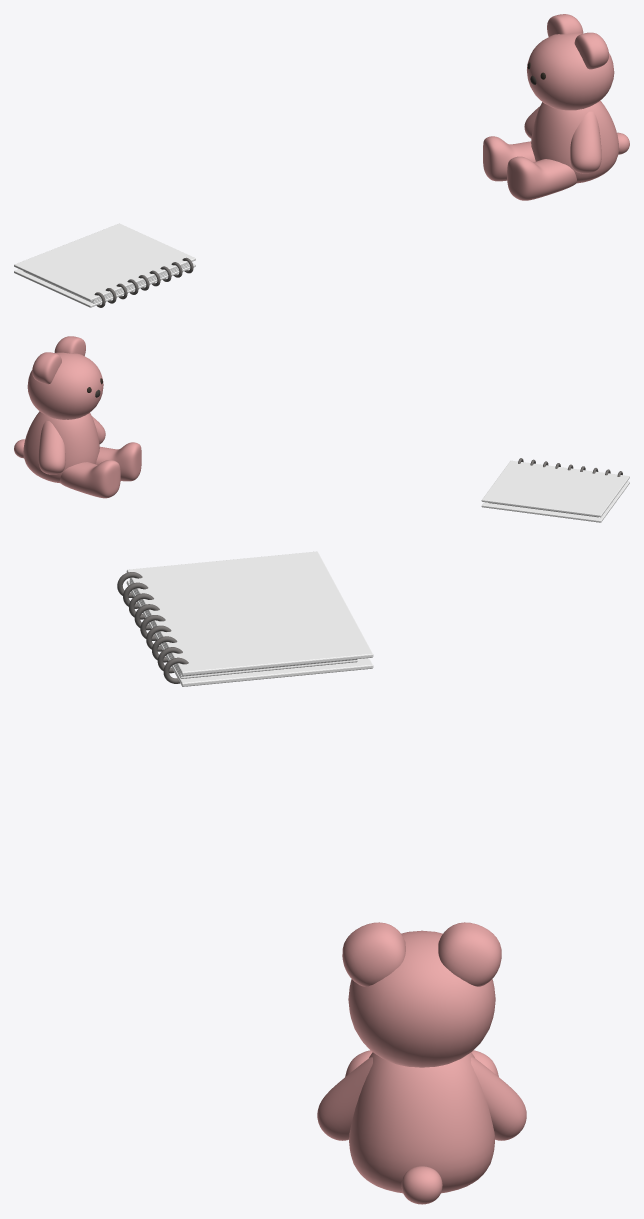
The model's file is sketchbook.fbx.
The picture shows the model from 3 angles, top to bottom: view 1: azimuth 30°, elevation 25°; view 2: azimuth 150°, elevation 25°; view 3: azimuth 270°, elevation 25°; orthographic projection. The views are drawn at different scales.
Visible parts, largest first — view 1: Cube.071, Cube.049, Torus.001, Cube.048; view 2: Cube.071, Cube.049, Cube.048; view 3: Cube.071, Cube.049, Torus.001, Cube.048.
Boxes of the visible parts, <box> form: Cube.071: <box>483,14,629,200</box>; Cube.049: <box>14,223,195,301</box>; Torus.001: <box>94,257,193,307</box>; Cube.048: <box>14,263,195,307</box>; Cube.071: <box>14,336,141,498</box>; Cube.049: <box>481,460,629,517</box>; Cube.048: <box>481,481,629,522</box>; Cube.071: <box>317,922,526,1204</box>; Cube.049: <box>126,551,373,675</box>; Torus.001: <box>117,572,188,683</box>; Cube.048: <box>126,580,373,686</box>.
Bounding box in the file's own units: 2722 × 606 × 863.
